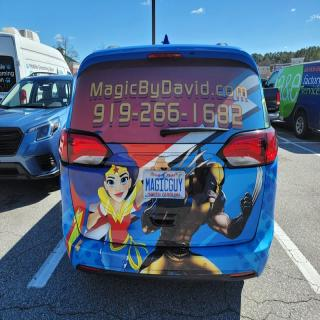license: (144, 171, 186, 200)
